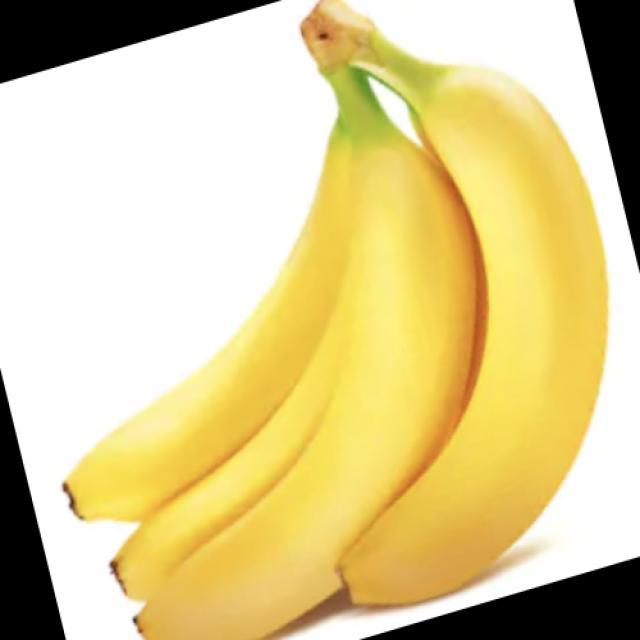Banana: (60, 0, 609, 639)
